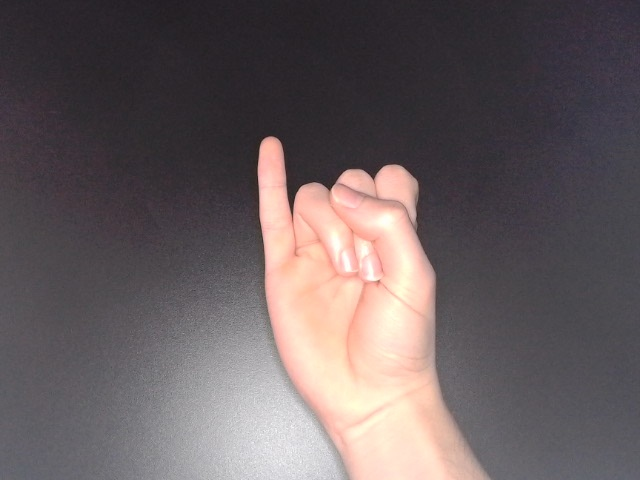i: (253, 133, 442, 449)
